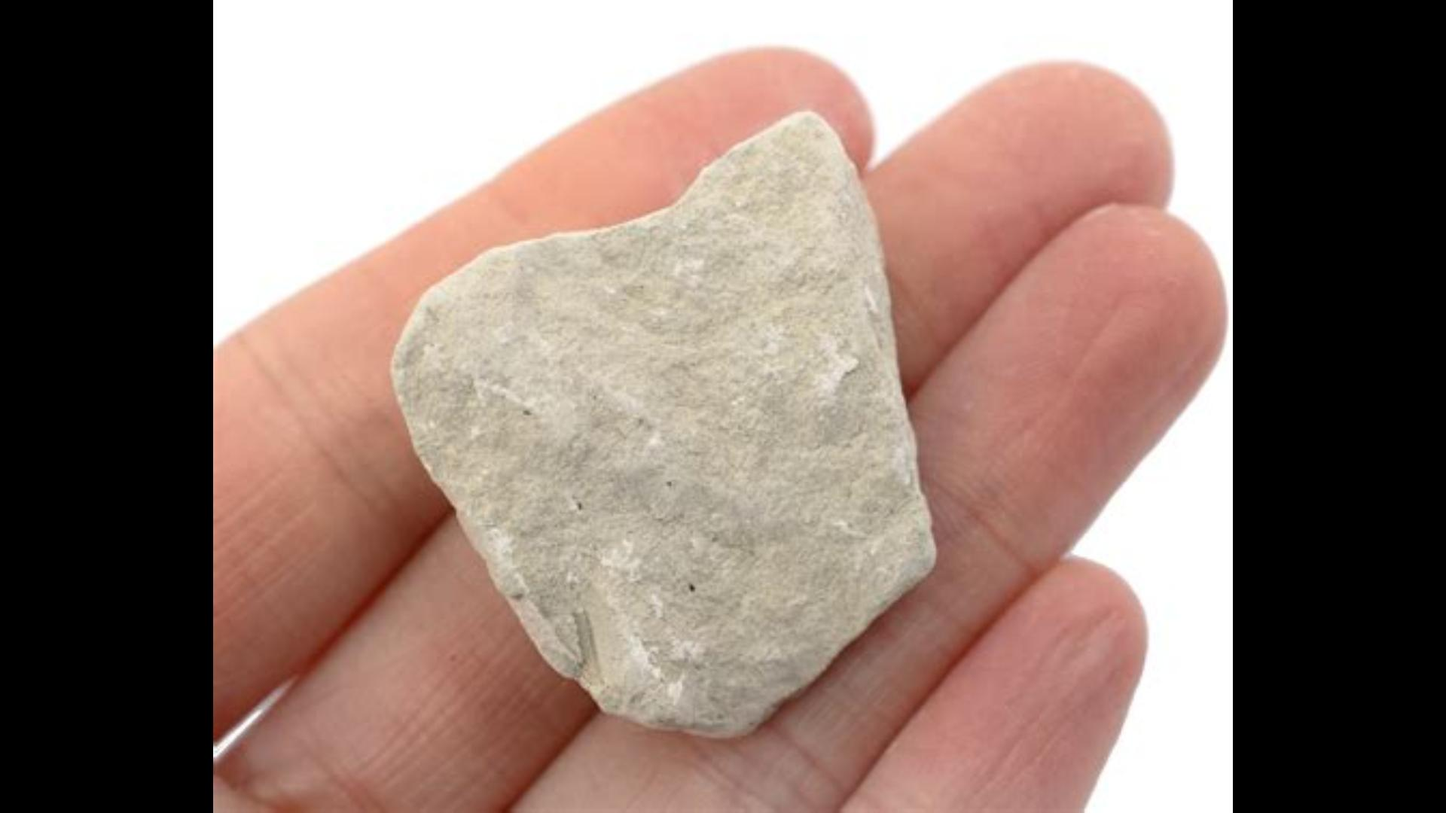rock: (396, 114, 932, 736)
